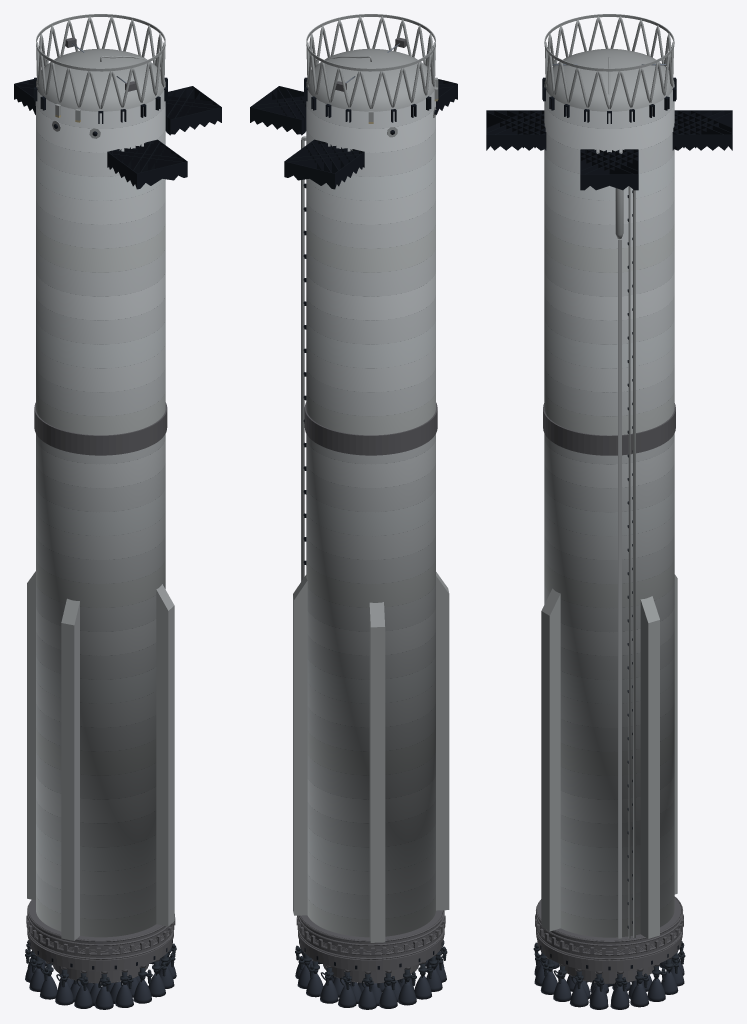
File: superheavy.glb
3 views of the same model, side by side, from view 1: azimuth 30°, elevation 25°; view 2: azimuth 150°, elevation 25°; view 3: azimuth 270°, elevation 25° (orthographic).
Visible parts, largest first — view 1: booster_tank, booster_chine_3, booster_chine_0, booster_dome, booster_aft_skirt, booster_chine_2, booster_band, grid_fin_right, grid_fin_windward, hotstage_ring, booster_inner_structure, grid_fin_left; view 2: booster_tank, booster_chine_2, booster_dome, booster_chine_1, booster_chine_3, booster_aft_skirt, booster_band, grid_fin_left, grid_fin_windward, booster_raceway_pipe_1, hotstage_ring, booster_inner_structure (+1 smaller); view 3: booster_tank, booster_chine_1, booster_chine_0, booster_dome, booster_aft_skirt, booster_raceway, booster_band, grid_fin_left, grid_fin_right, grid_fin_windward, booster_raceway_pipe_0, booster_raceway_pipe_1 (+3 smaller).
Boxes of the visible parts, <box> form: booster_tank: <box>36,82,165,937</box>; booster_chine_3: <box>61,598,79,940</box>; booster_chine_0: <box>156,584,174,926</box>; booster_dome: <box>36,48,165,111</box>; booster_aft_skirt: <box>27,900,173,971</box>; booster_chine_2: <box>27,571,35,900</box>; booster_band: <box>34,402,167,455</box>; grid_fin_right: <box>107,139,187,189</box>; grid_fin_windward: <box>165,86,221,135</box>; hotstage_ring: <box>36,14,165,71</box>; booster_inner_structure: <box>52,964,148,983</box>; grid_fin_left: <box>14,79,35,114</box>; booster_tank: <box>306,82,435,937</box>; booster_chine_2: <box>369,602,385,942</box>; booster_dome: <box>306,48,435,111</box>; booster_chine_1: <box>293,575,307,915</box>; booster_chine_3: <box>436,572,449,910</box>; booster_aft_skirt: <box>298,910,444,971</box>; booster_band: <box>304,402,437,455</box>; grid_fin_left: <box>284,139,364,189</box>; grid_fin_windward: <box>250,86,306,135</box>; booster_raceway_pipe_1: <box>301,136,306,581</box>; hotstage_ring: <box>306,14,435,71</box>; booster_inner_structure: <box>323,964,419,982</box>; booster_tank: <box>544,84,674,937</box>; booster_chine_1: <box>640,596,659,938</box>; booster_chine_0: <box>541,588,560,931</box>; booster_dome: <box>544,48,674,111</box>; booster_aft_skirt: <box>536,898,682,971</box>; booster_raceway: <box>618,239,621,938</box>; booster_band: <box>543,403,675,455</box>; grid_fin_left: <box>672,110,732,150</box>; grid_fin_right: <box>486,110,546,150</box>; grid_fin_windward: <box>580,149,638,190</box>; booster_raceway_pipe_0: <box>628,186,630,938</box>; booster_raceway_pipe_1: <box>633,189,635,937</box>.
Size of the model in its own units: 13.77 by 72.3 by 17.05.
9 materials, 2 textured.
